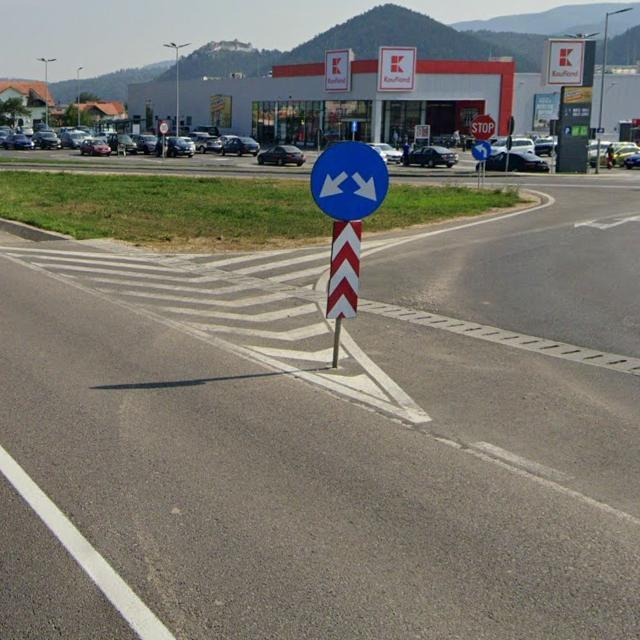prio_stop: (470, 113, 498, 140)
